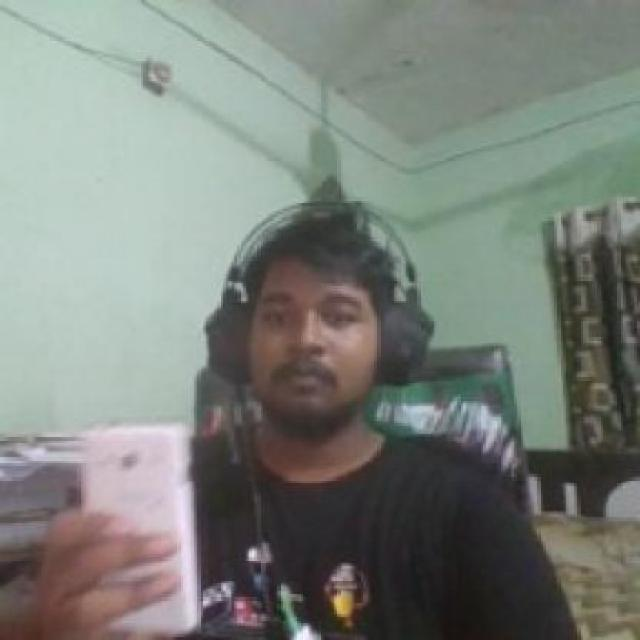Phone: (78, 423, 201, 640)
